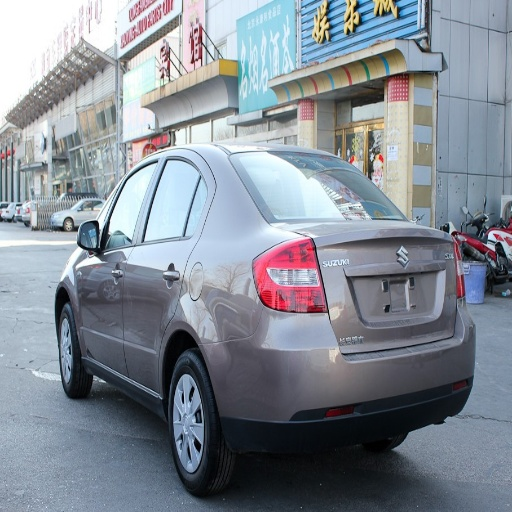back_bumper: (208, 302, 474, 458)
back_glass: (231, 151, 400, 220)
back_left_door: (125, 150, 210, 386)
